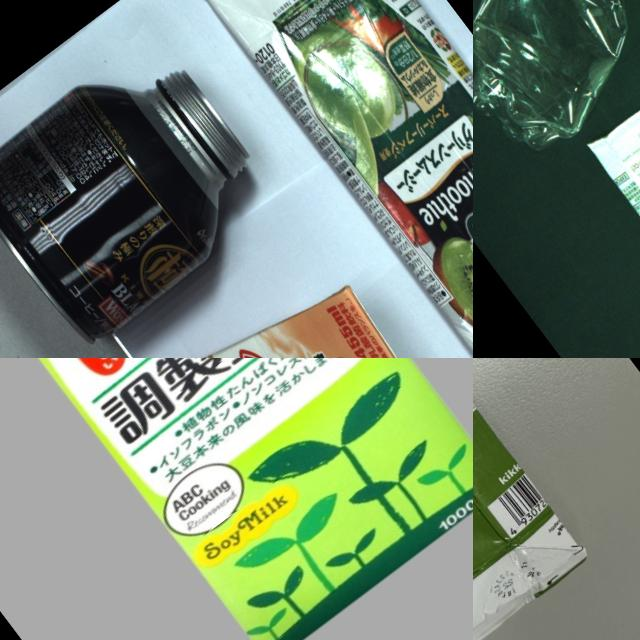Aluminium Foil: (0, 358, 473, 640), (172, 0, 473, 358), (103, 251, 473, 358), (473, 358, 601, 640), (570, 81, 640, 358)
Can: (0, 25, 288, 350)
Transparent Plastic Bottle: (473, 0, 640, 169)
